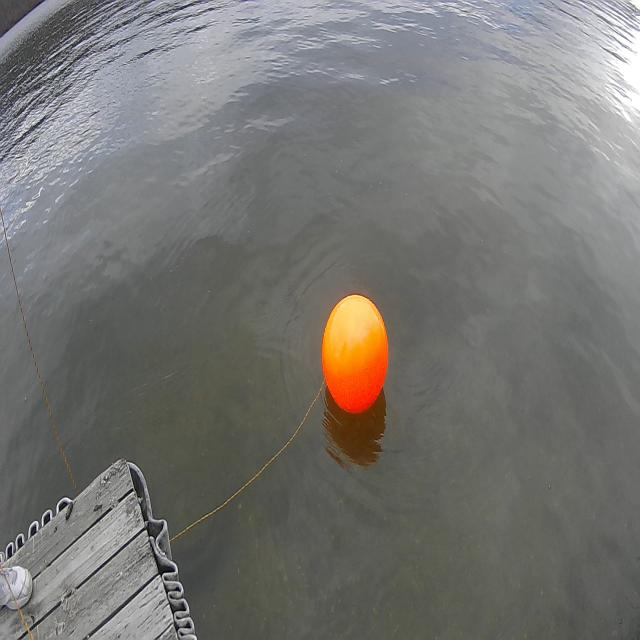Buoy: (316, 288, 393, 423)
